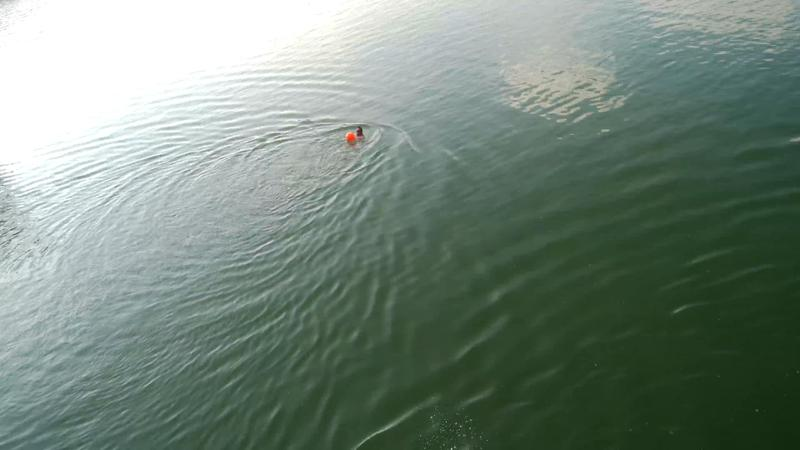swimmers: (345, 126, 365, 142)
